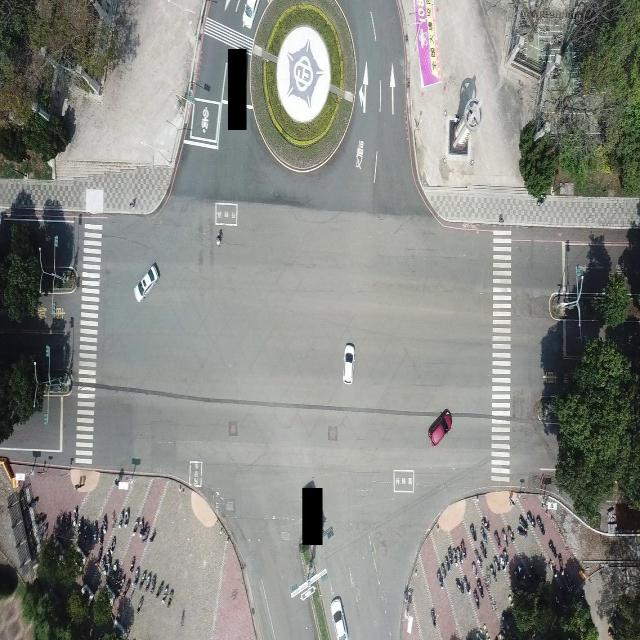car: (134, 260, 160, 301), (428, 407, 452, 447), (330, 594, 348, 639), (342, 341, 355, 384)
